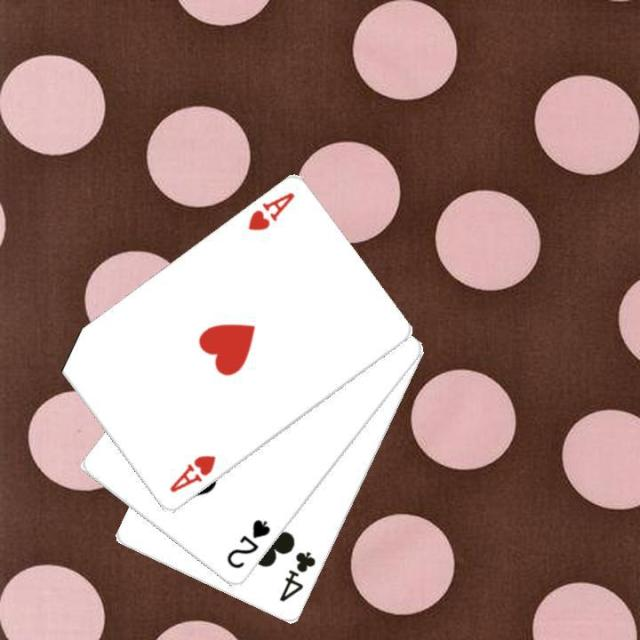2S: (222, 516, 272, 572)
4C: (276, 548, 318, 604)
AH: (243, 188, 297, 234), (165, 452, 218, 495)
